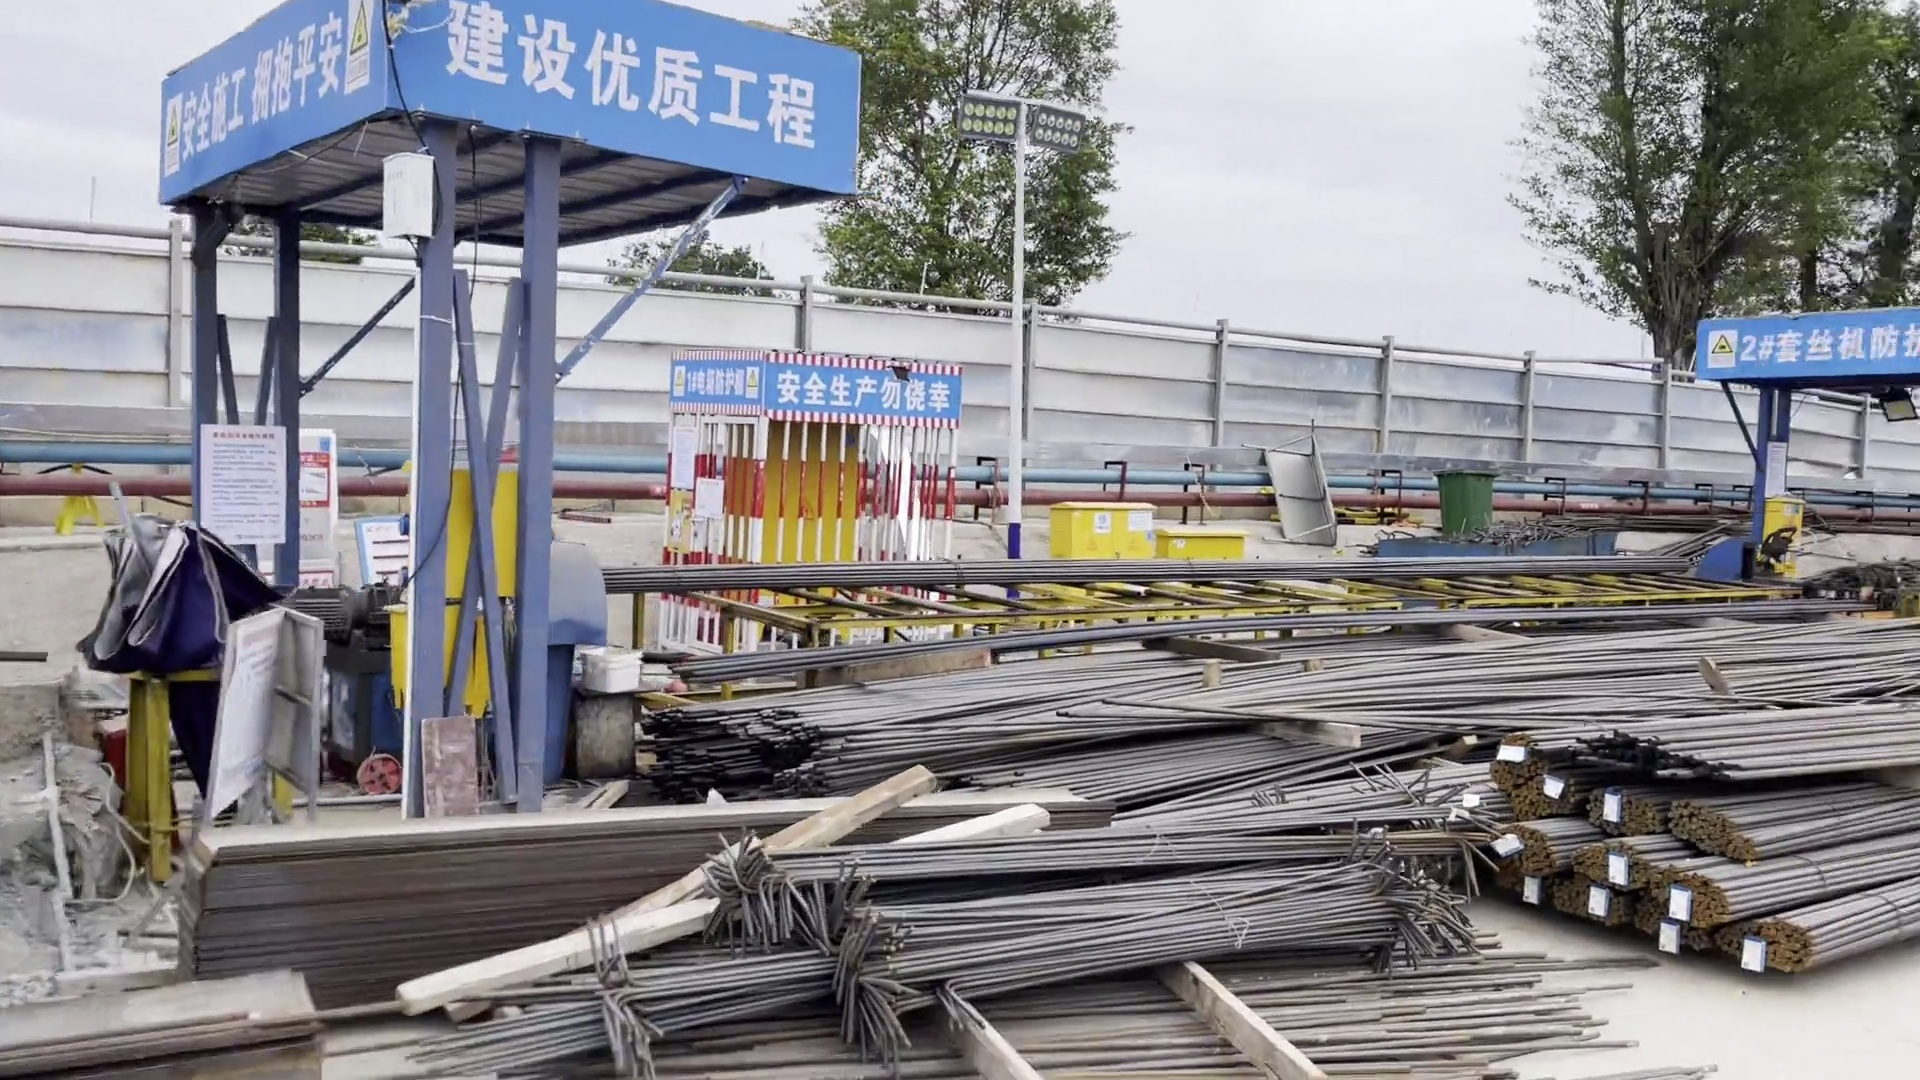ebox: (396, 452, 551, 680), (1043, 495, 1149, 563), (1149, 524, 1261, 564), (1760, 487, 1804, 568)
rebar: (392, 847, 1547, 1075), (644, 608, 1920, 774), (1474, 702, 1917, 992), (595, 543, 1684, 603)
slogan: (405, 1, 855, 150), (164, 11, 347, 167), (774, 360, 953, 415)
